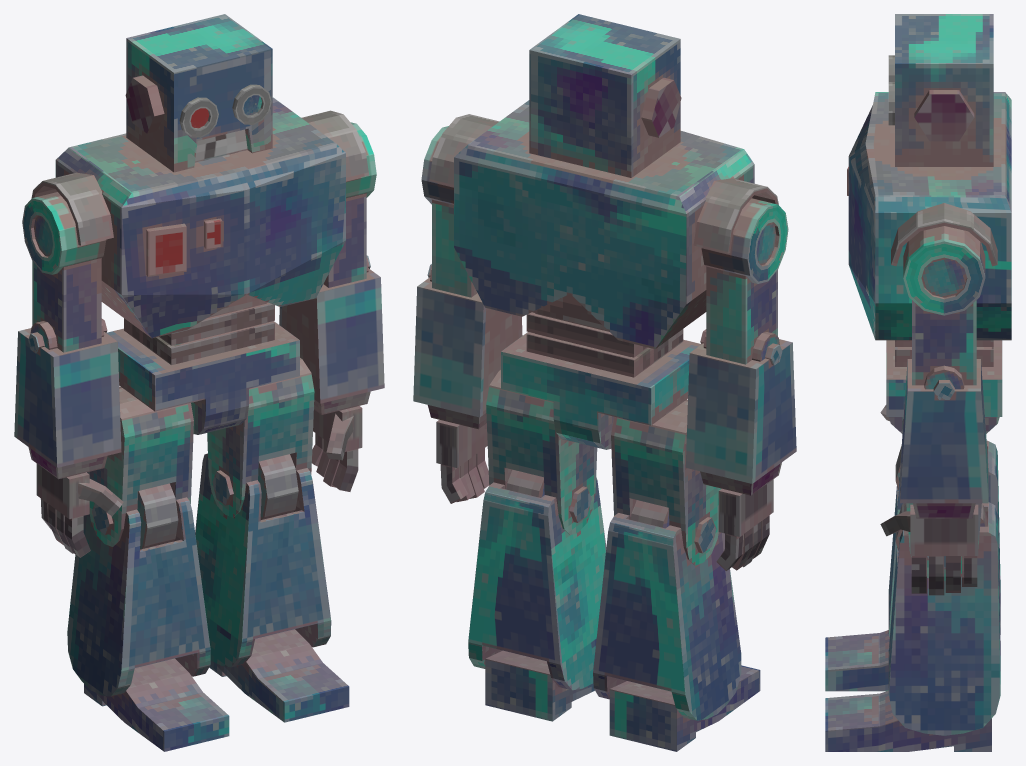
File: BoxRobot01.fbx
The picture shows the model from 3 angles, left to right: view 1: azimuth 30°, elevation 25°; view 2: azimuth 150°, elevation 25°; view 3: azimuth 270°, elevation 25°; orthographic projection. The views are drawn at different scales.
Parts seen in each view (by area): view 1: BoxRobot01; view 2: BoxRobot01; view 3: BoxRobot01.
Boxes of the visible parts, left/top/right/bottom form: BoxRobot01: left=14, top=14, right=384, bottom=751; BoxRobot01: left=413, top=14, right=796, bottom=751; BoxRobot01: left=825, top=14, right=1011, bottom=751.
Size of the model in its own units: 140 by 260 by 65.68.
